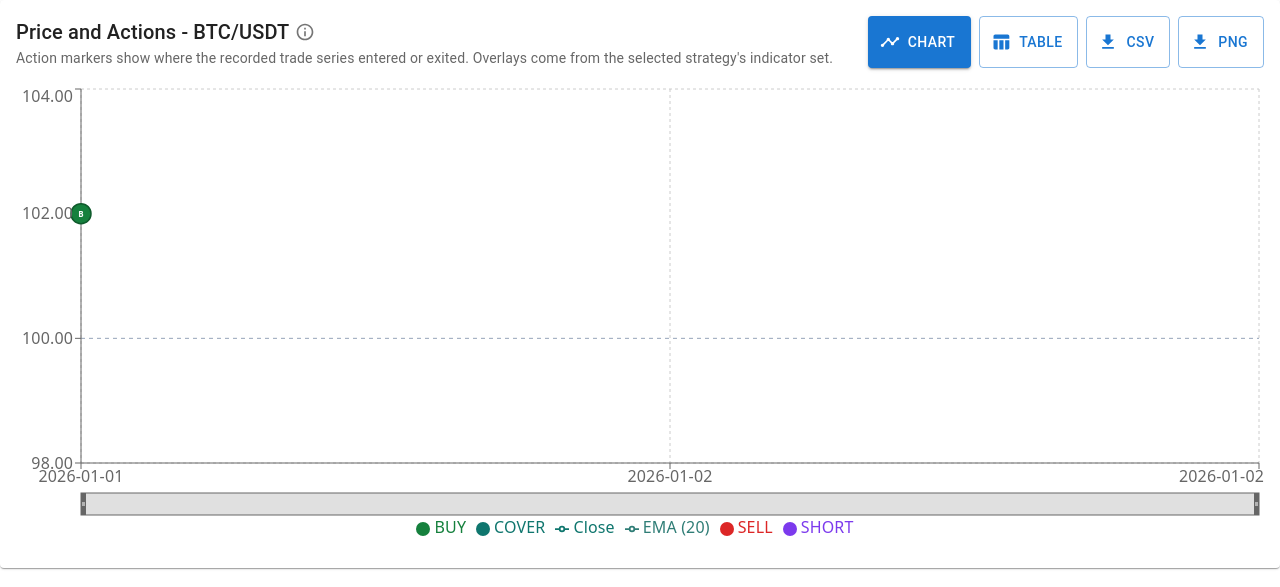
Test case: backtest telemetry charts › renders price-action chart table mode
Expected: the heading "Price and Actions - BTC/USDT" is shown, x1=16 y1=16 x2=289 y2=48
Click the button "Table".
click(1029, 42)  # box x1=979 y1=16 x2=1078 y2=68
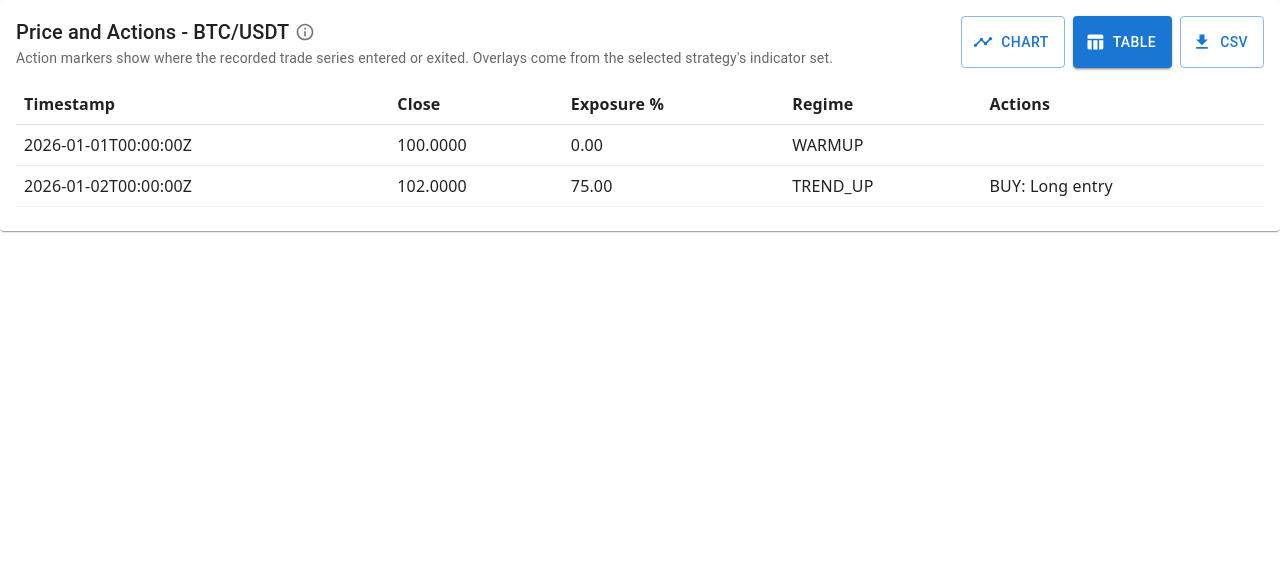
Result: the column heading "Exposure %" is shown at x1=563 y1=84 x2=784 y2=124
